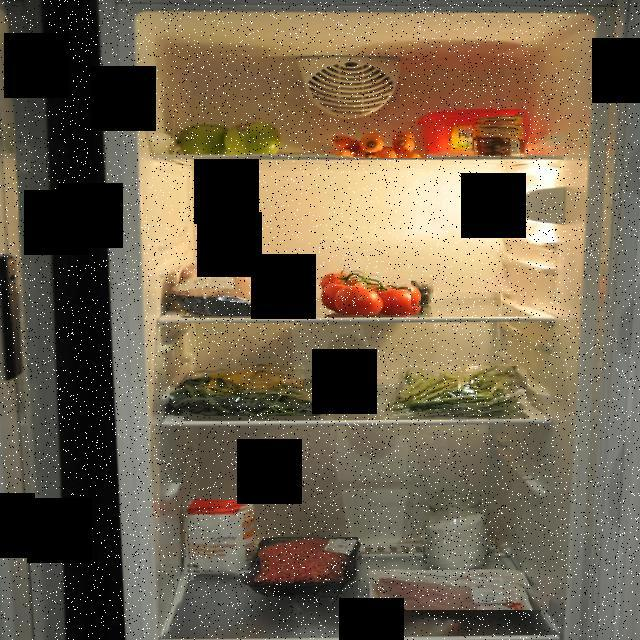apple: (178, 119, 282, 158)
blueberries: (411, 280, 437, 306)
butter: (418, 109, 528, 156)
carrot: (327, 132, 428, 158)
chicken: (170, 256, 292, 316)
corn: (472, 121, 528, 157)
green_beans: (385, 366, 528, 418)
ground_beef: (254, 537, 358, 601)
ham: (368, 569, 550, 610)
spinach: (170, 360, 346, 416)
sugar: (184, 500, 256, 580), (423, 491, 495, 568)
tomato: (316, 267, 424, 315)
